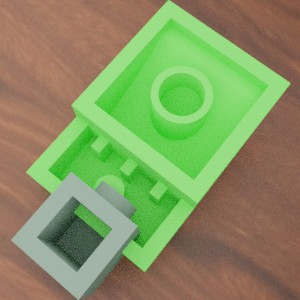lego: (26, 0, 290, 271), (11, 171, 140, 299)
